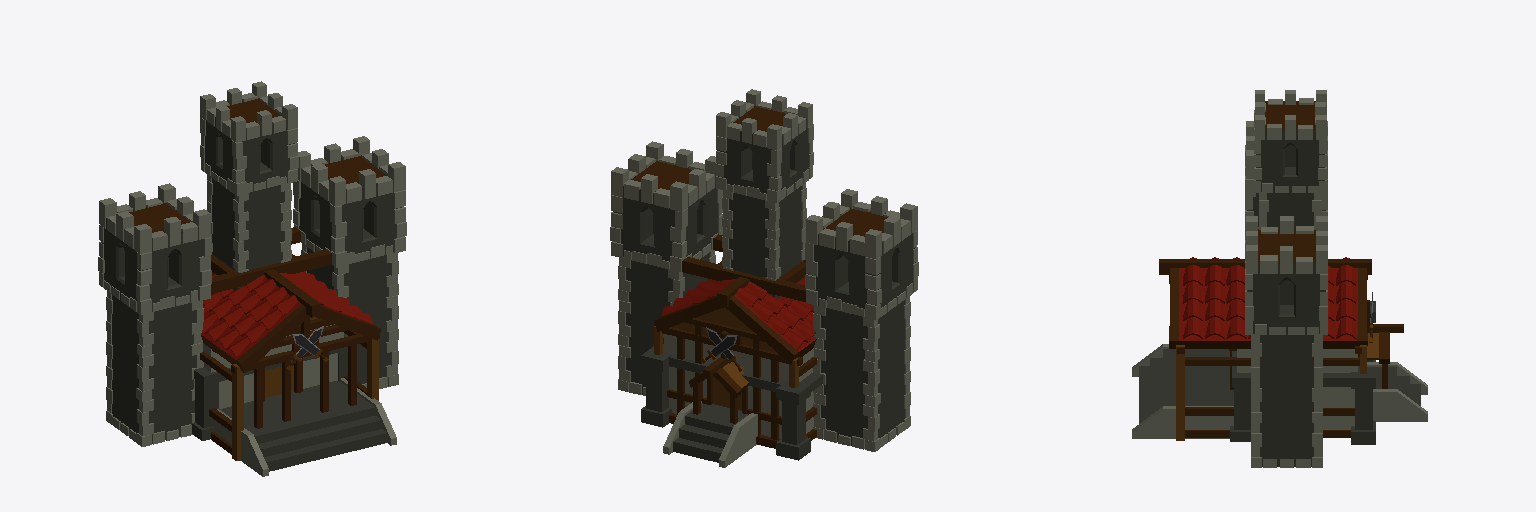
Rendered from Barracks_SecondAge_Level3_Cube.obj.
The picture shows the model from 3 angles: view 1: azimuth 30°, elevation 25°; view 2: azimuth 150°, elevation 25°; view 3: azimuth 270°, elevation 25°; orthographic projection.
Visible parts, largest first — view 1: Barracks_SecondAge_Level3_Cube.003; view 2: Barracks_SecondAge_Level3_Cube.003; view 3: Barracks_SecondAge_Level3_Cube.003.
Part boxes in pixels (x1,y1,x2,y2): Barracks_SecondAge_Level3_Cube.003: (98,81,406,476); Barracks_SecondAge_Level3_Cube.003: (610,89,918,467); Barracks_SecondAge_Level3_Cube.003: (1132,90,1427,467).
Bounding box in the file's own units: 1.71 × 1.85 × 1.64.